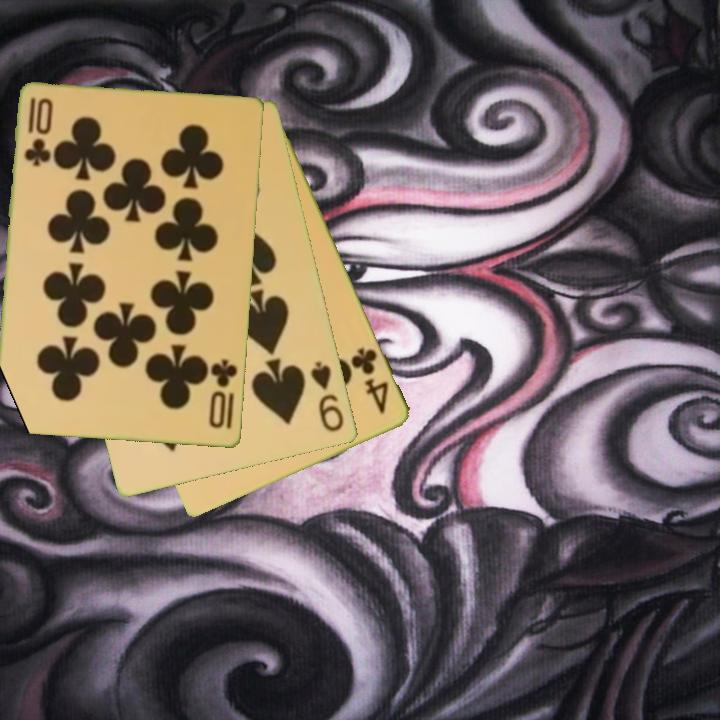10c: (206, 356, 241, 432), (21, 94, 51, 170)
4c: (348, 343, 393, 417)
9s: (307, 358, 348, 435)
